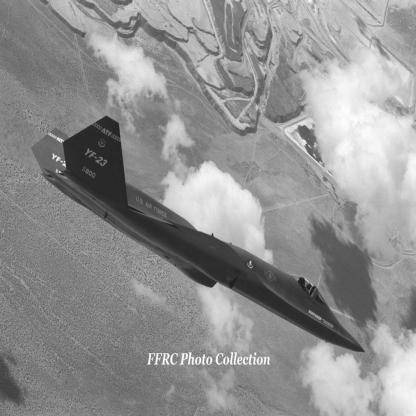YF23: (32, 116, 367, 354)
